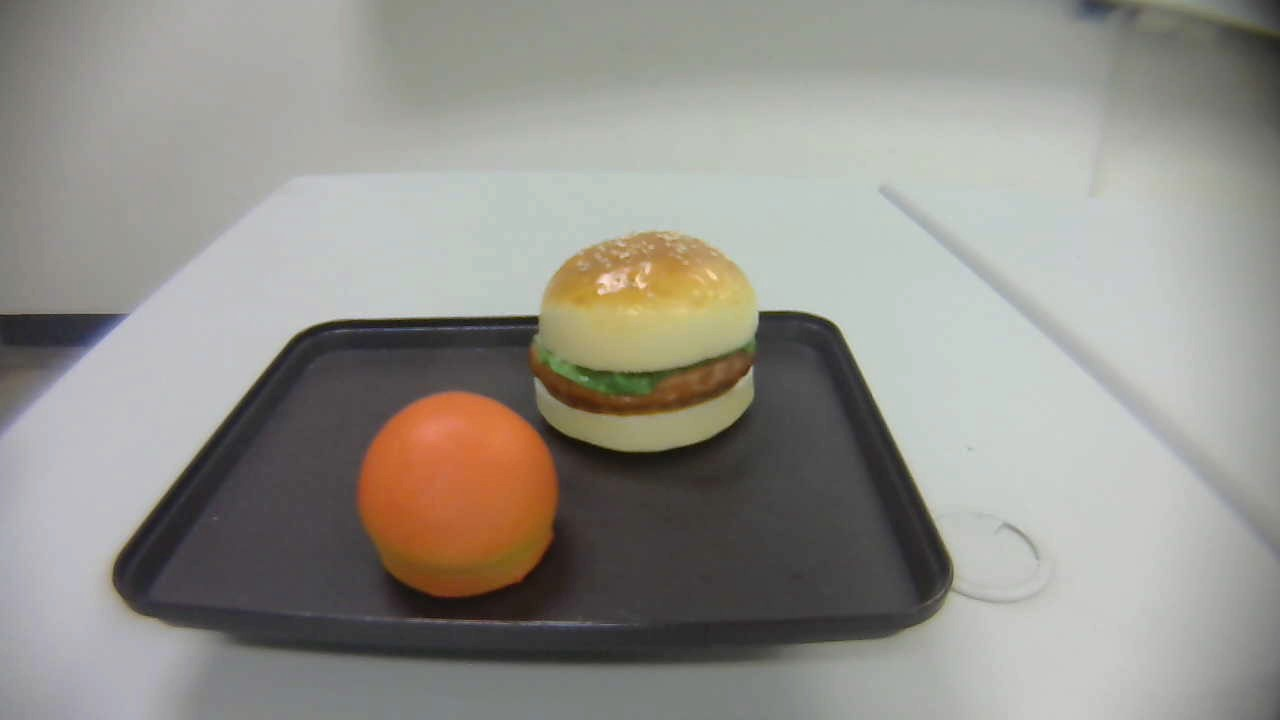bun: (356, 391, 558, 599)
hamburger: (530, 230, 761, 452)
